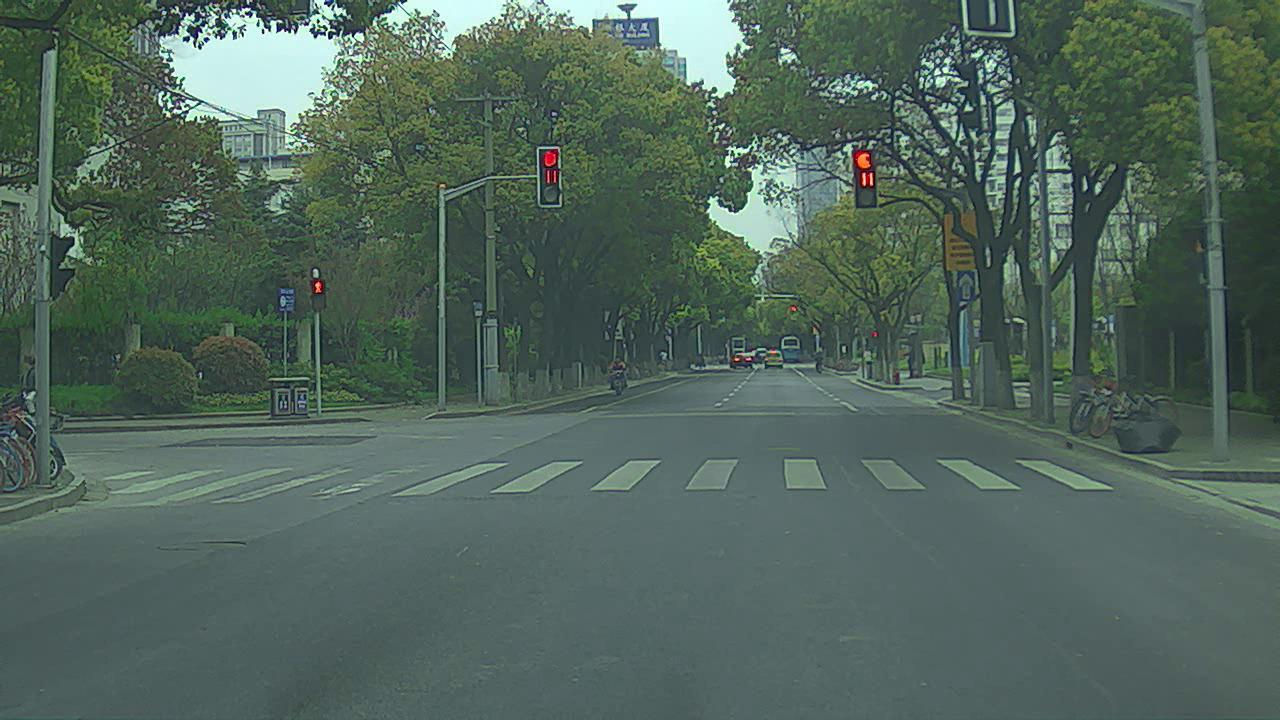traffic_light: (536, 145, 561, 209), (855, 151, 879, 213)
